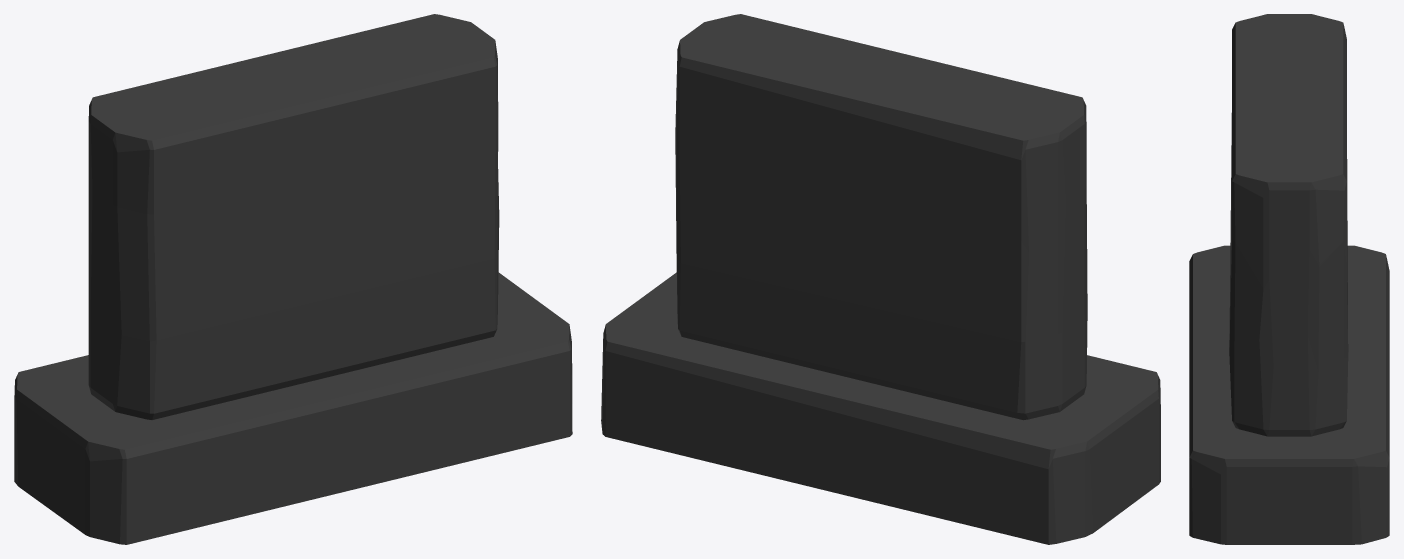
Rendered from SM_Env_Motorway_Support_01.glb.
The picture shows the model from 3 angles, left to right: view 1: azimuth 30°, elevation 25°; view 2: azimuth 150°, elevation 25°; view 3: azimuth 270°, elevation 25°; orthographic projection. The views are drawn at different scales.
Parts seen in each view (by area): view 1: SM_Env_Bridge_Support_01, SM_Env_Motorway_Support_01; view 2: SM_Env_Bridge_Support_01, SM_Env_Motorway_Support_01; view 3: SM_Env_Bridge_Support_01, SM_Env_Motorway_Support_01.
Part boxes in pixels (bbox=[...]): SM_Env_Bridge_Support_01: bbox=[88, 14, 499, 419]; SM_Env_Motorway_Support_01: bbox=[14, 272, 572, 544]; SM_Env_Bridge_Support_01: bbox=[675, 14, 1087, 420]; SM_Env_Motorway_Support_01: bbox=[601, 272, 1160, 544]; SM_Env_Bridge_Support_01: bbox=[1229, 14, 1348, 436]; SM_Env_Motorway_Support_01: bbox=[1189, 245, 1389, 544].
Size of the model in its own units: 14.35 by 10.55 by 5.63.
Materials: 1 (1 with a texture image).
